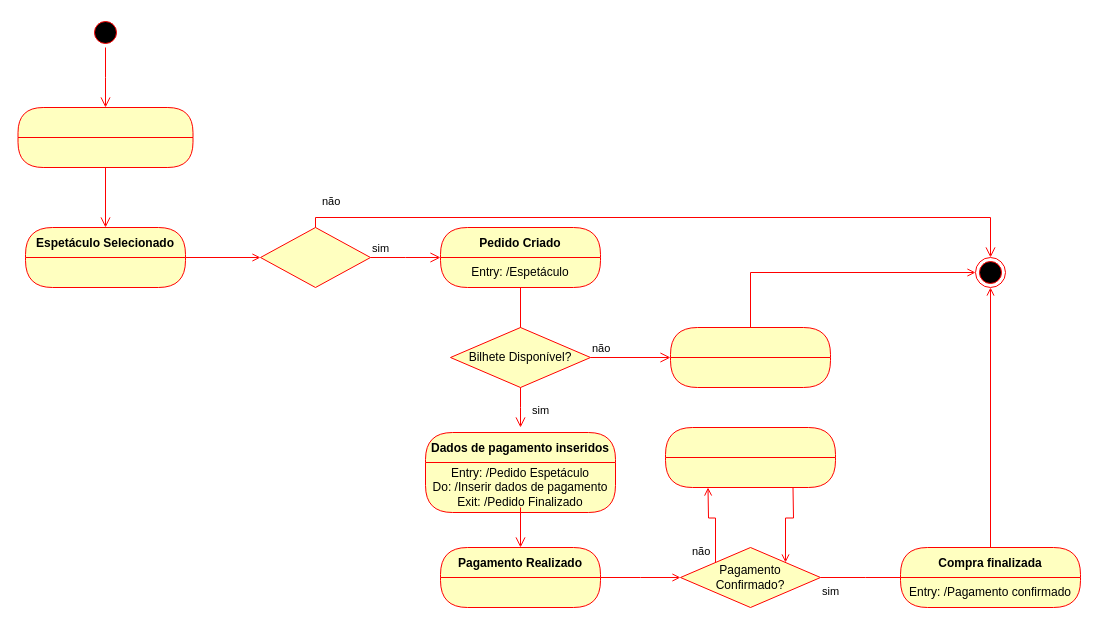
Some shapes in this 1098 by 625 pixel diagram are drawn without their labels. Here are the shapes that lost their labels. From the top down, the centre of each, then its label:
the point at 105,137: Cliente seleciona espetáculo
the point at 315,257: Comprar Bilhete?
the point at 750,357: Pagamento cancelado
the point at 750,457: Aguardando confirmação
